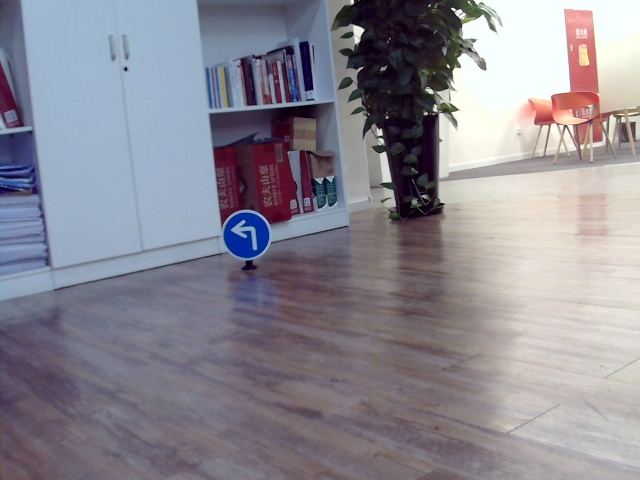turn_left: (229, 217, 262, 252)
